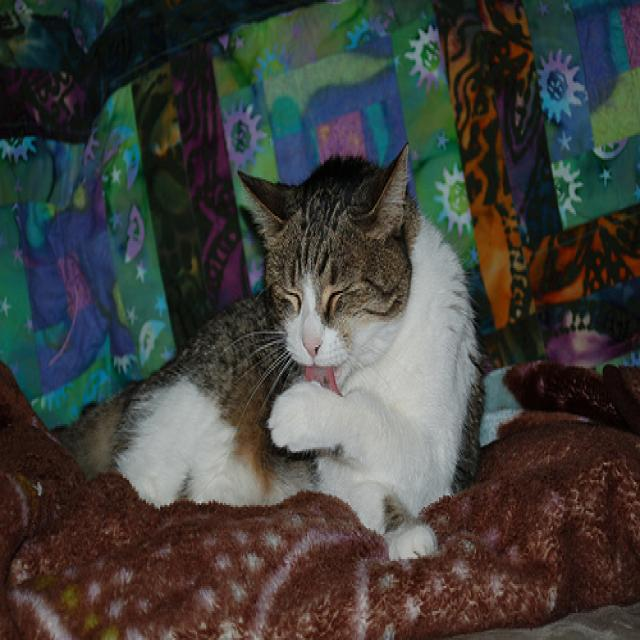left eye: (322, 283, 346, 320)
